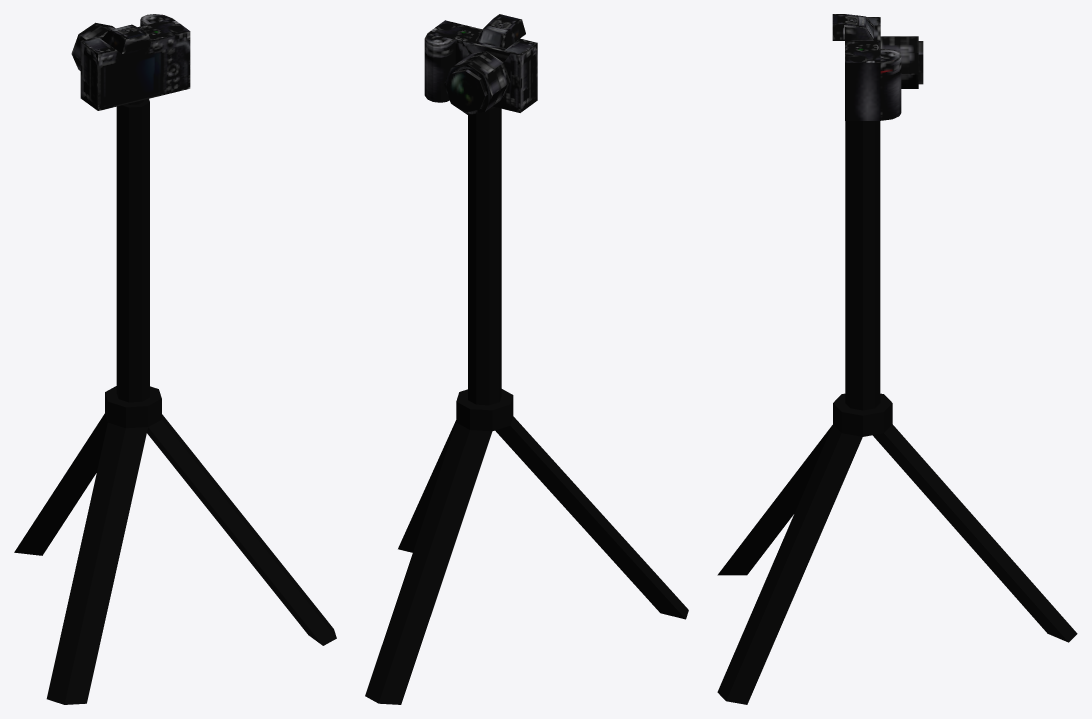
File: camera_with_tri-fold.fbx
3 views of the same model, side by side, from view 1: azimuth 30°, elevation 25°; view 2: azimuth 150°, elevation 25°; view 3: azimuth 270°, elevation 25° (orthographic).
Visible parts, largest first — view 1: Camera; view 2: Camera; view 3: Camera.
Boxes of the visible parts, x1,y1,x2,y2 form: Camera: (14, 14, 336, 704); Camera: (365, 14, 688, 704); Camera: (717, 14, 1077, 704).
Bounding box in the file's own units: 1459 × 2907 × 1559.
